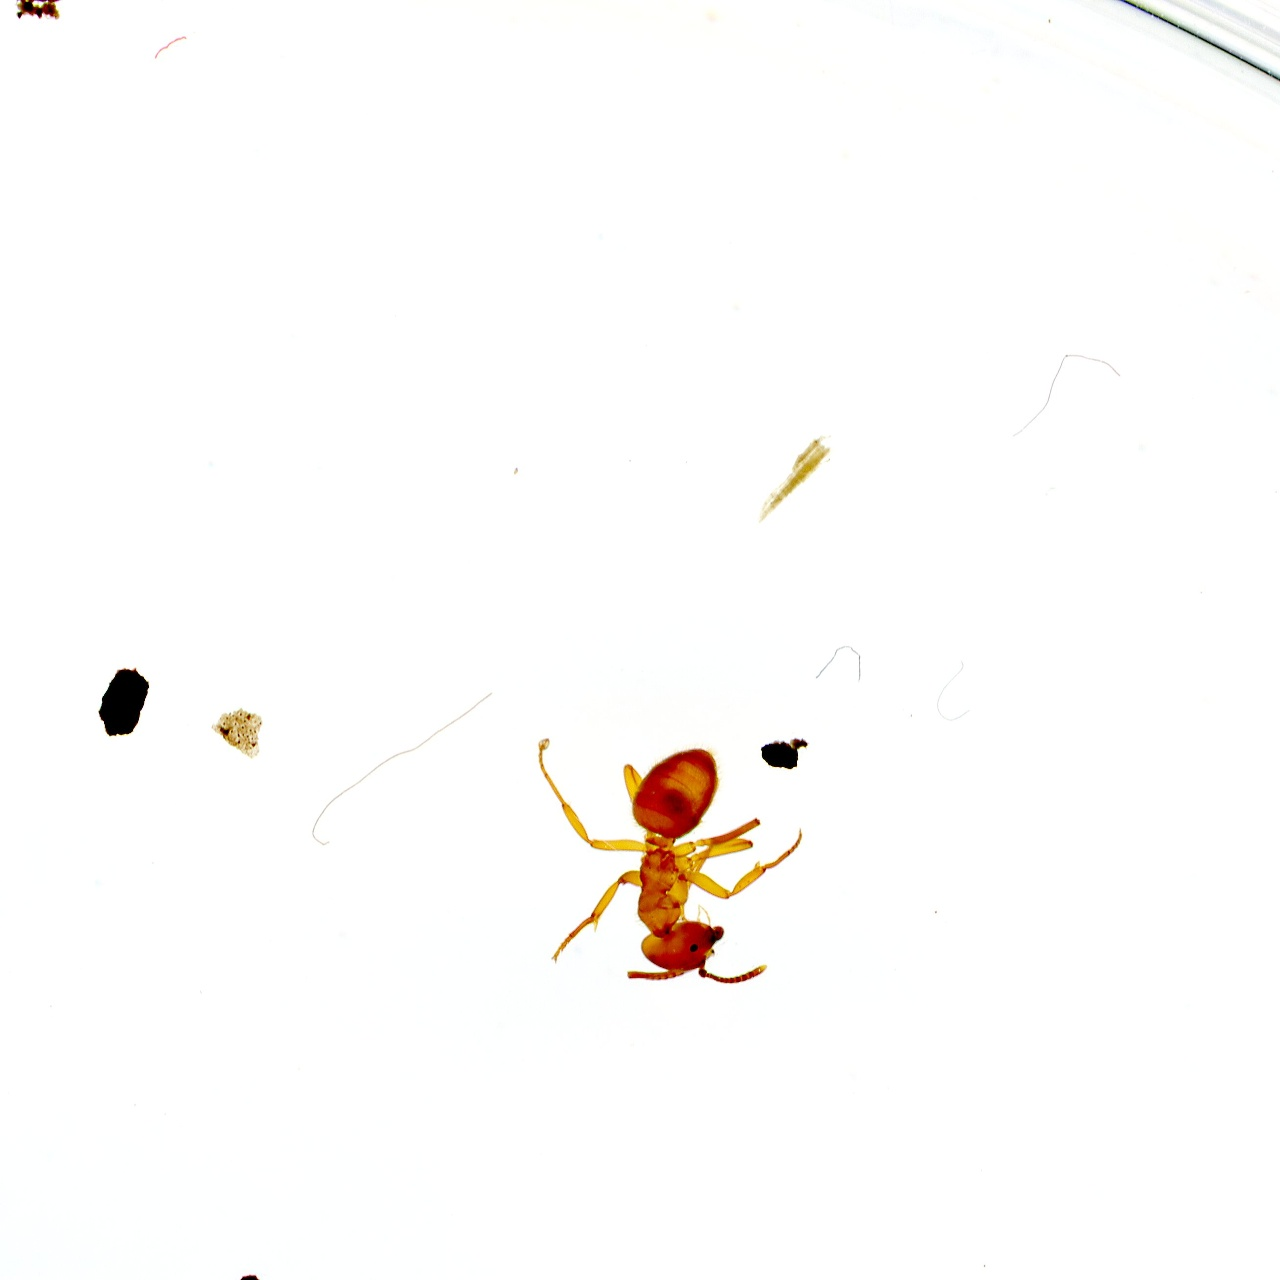arthropod: (526, 709, 815, 1005)
